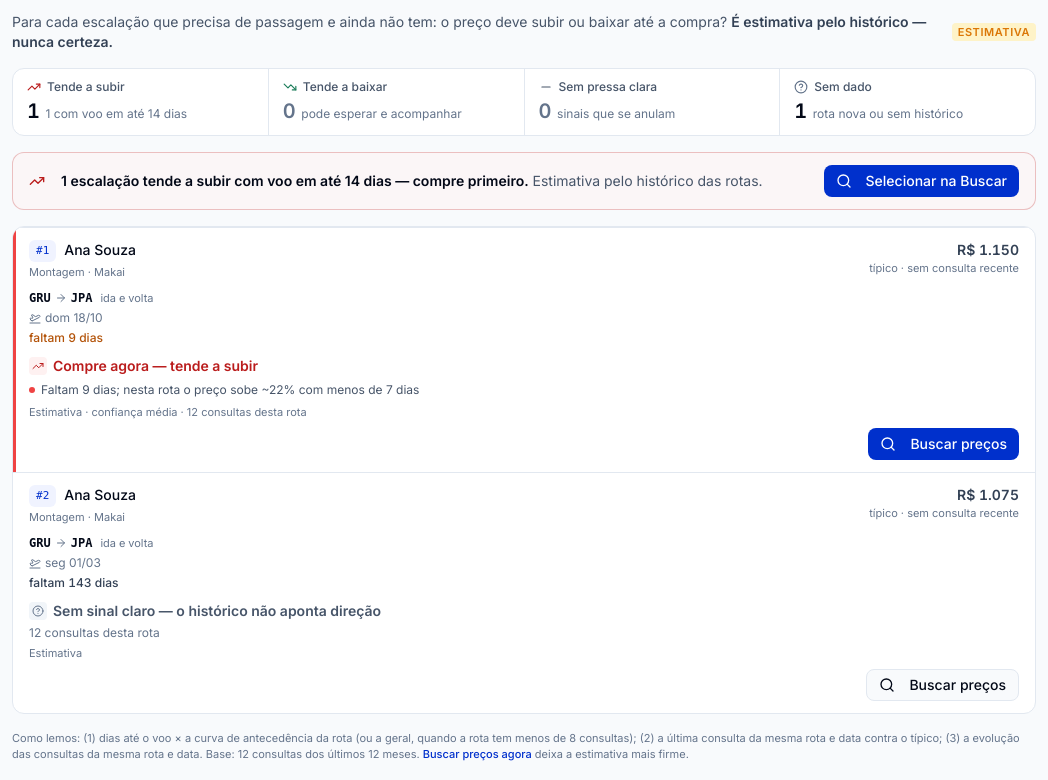
Test case: Previsão por escalação › diz a tendência e o porquê, nunca certeza; "Buscar preços" leva a escalação para a Buscar
Check: the list item with test id "previsao-v1" shows "Compre agora — tende a subir", box [53,357,258,374]
Check: the list item with test id "previsao-v1" shows "Estimativa", box [29,405,82,419]
Click the button with test id "previsao-buscar-v1" at (944, 444), box [868,428,1019,460]
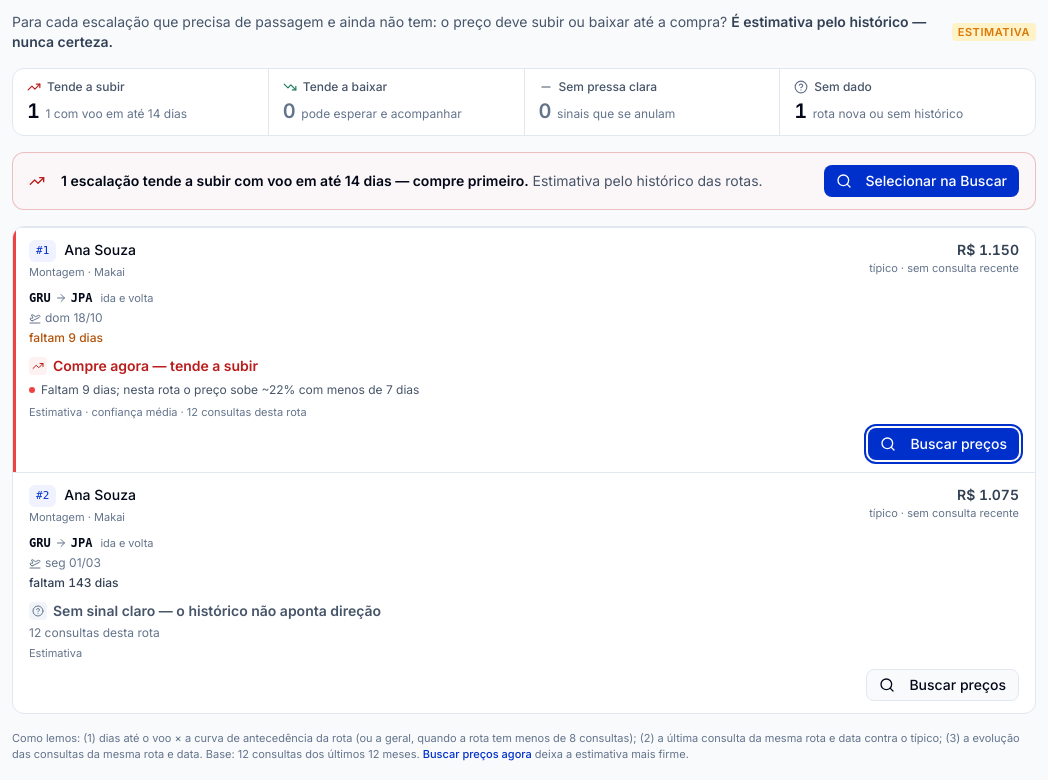
Click the button with test id "previsao-fila-sem_dado" at (907, 102), box [779,69,1035,135]
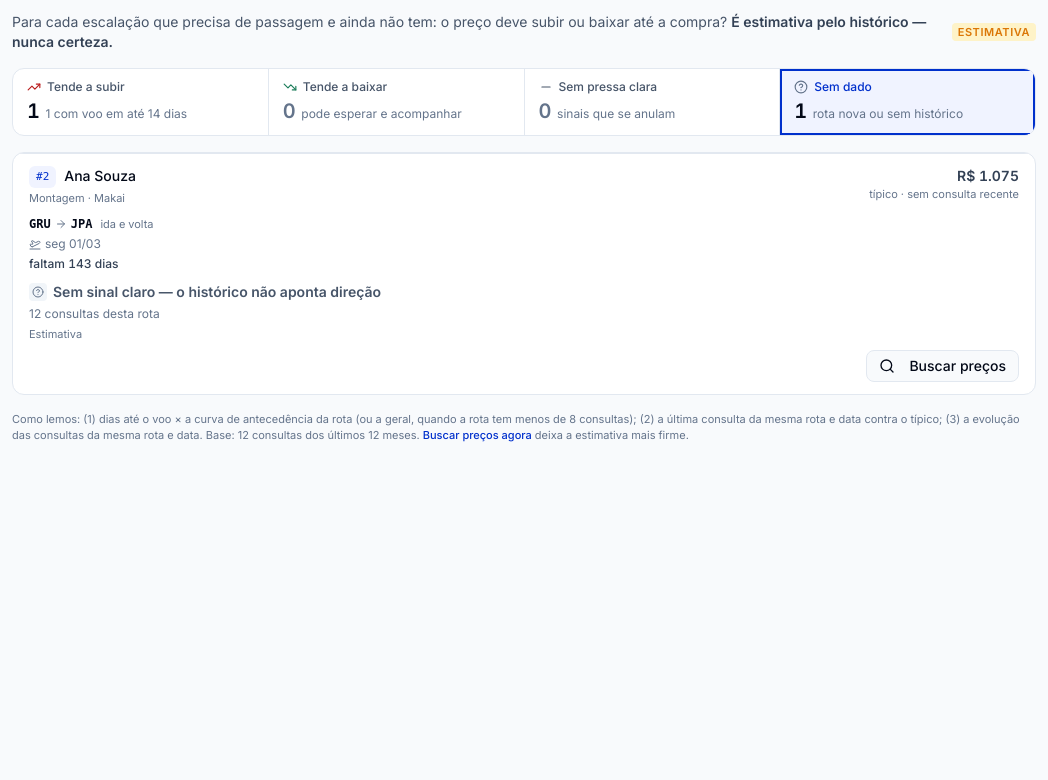
Check: the list item with test id "previsao-v1" is gone
